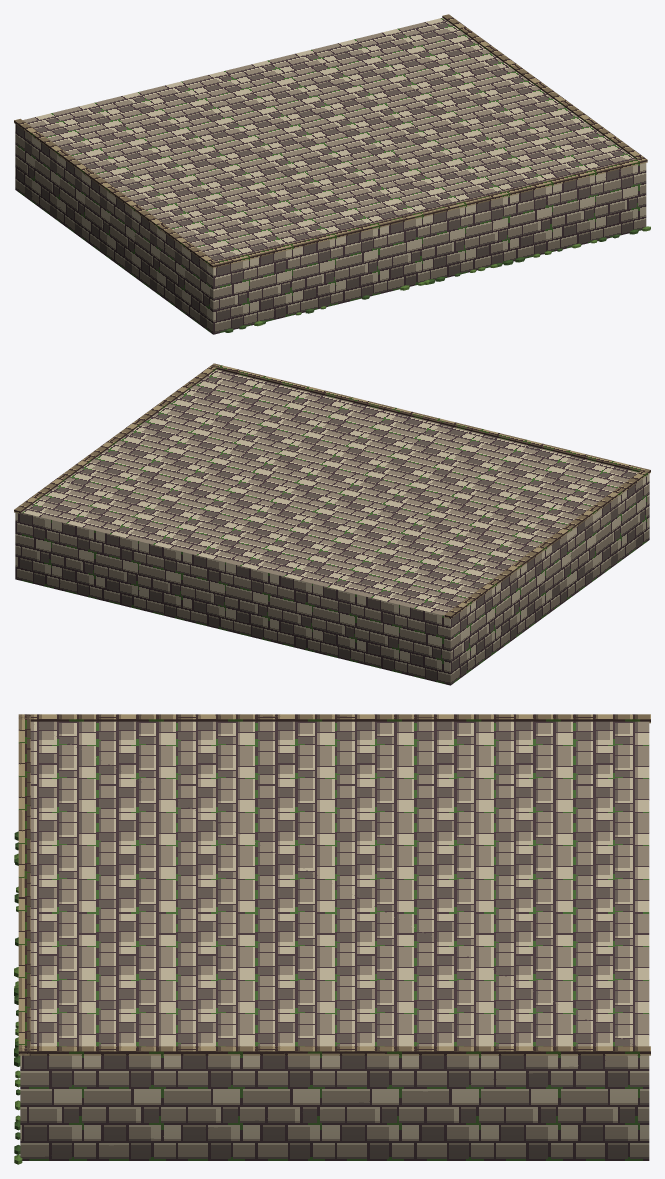
Rendered from scene_wall_n.glb.
3 renders of one model, top to bottom at view 1: azimuth 30°, elevation 25°; view 2: azimuth 150°, elevation 25°; view 3: azimuth 270°, elevation 25°, orthographic. The views are drawn at different scales.
Parts seen in each view (by area): view 1: scene_wall_n; view 2: scene_wall_n; view 3: scene_wall_n.
Boxes of the visible parts, x1,y1,x2,y2 form: scene_wall_n: (14, 14, 650, 334); scene_wall_n: (14, 363, 650, 685); scene_wall_n: (14, 714, 650, 1164).
Size of the model in its own units: 24.27 by 3.77 by 19.24.
2 materials, 1 textured.
